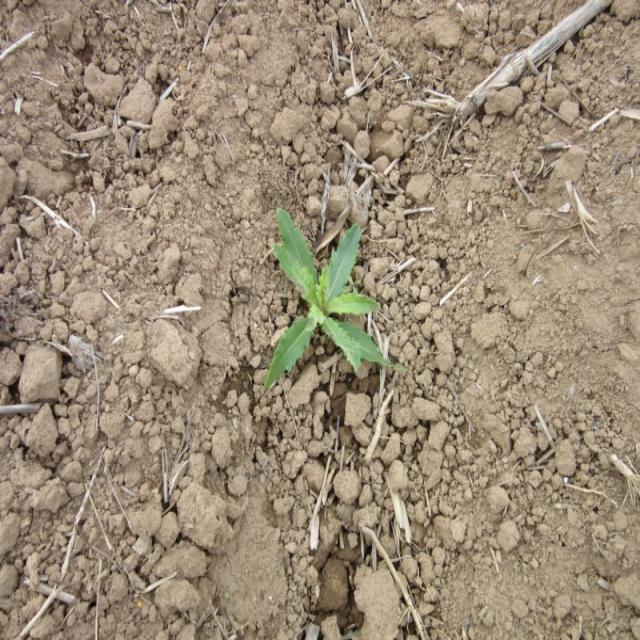cs: (264, 202, 395, 408)
